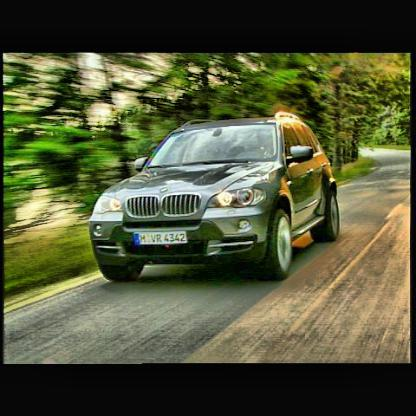BMW X5 SUV 2007: (92, 112, 341, 286)
